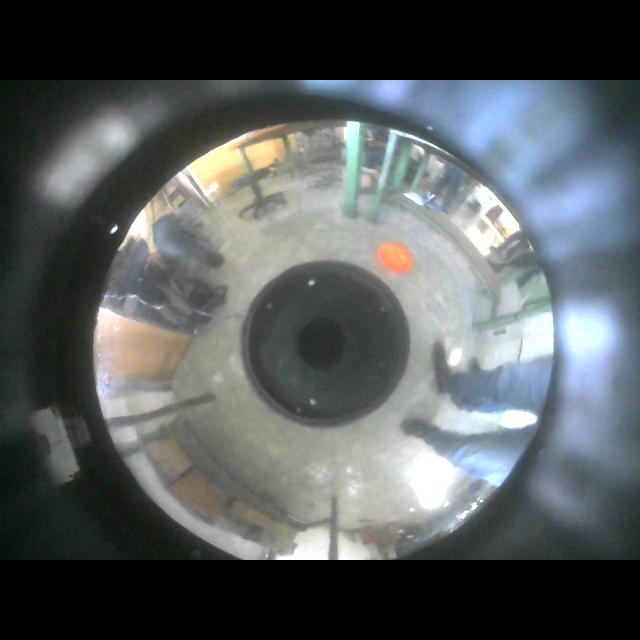bola: (377, 242, 414, 273)
